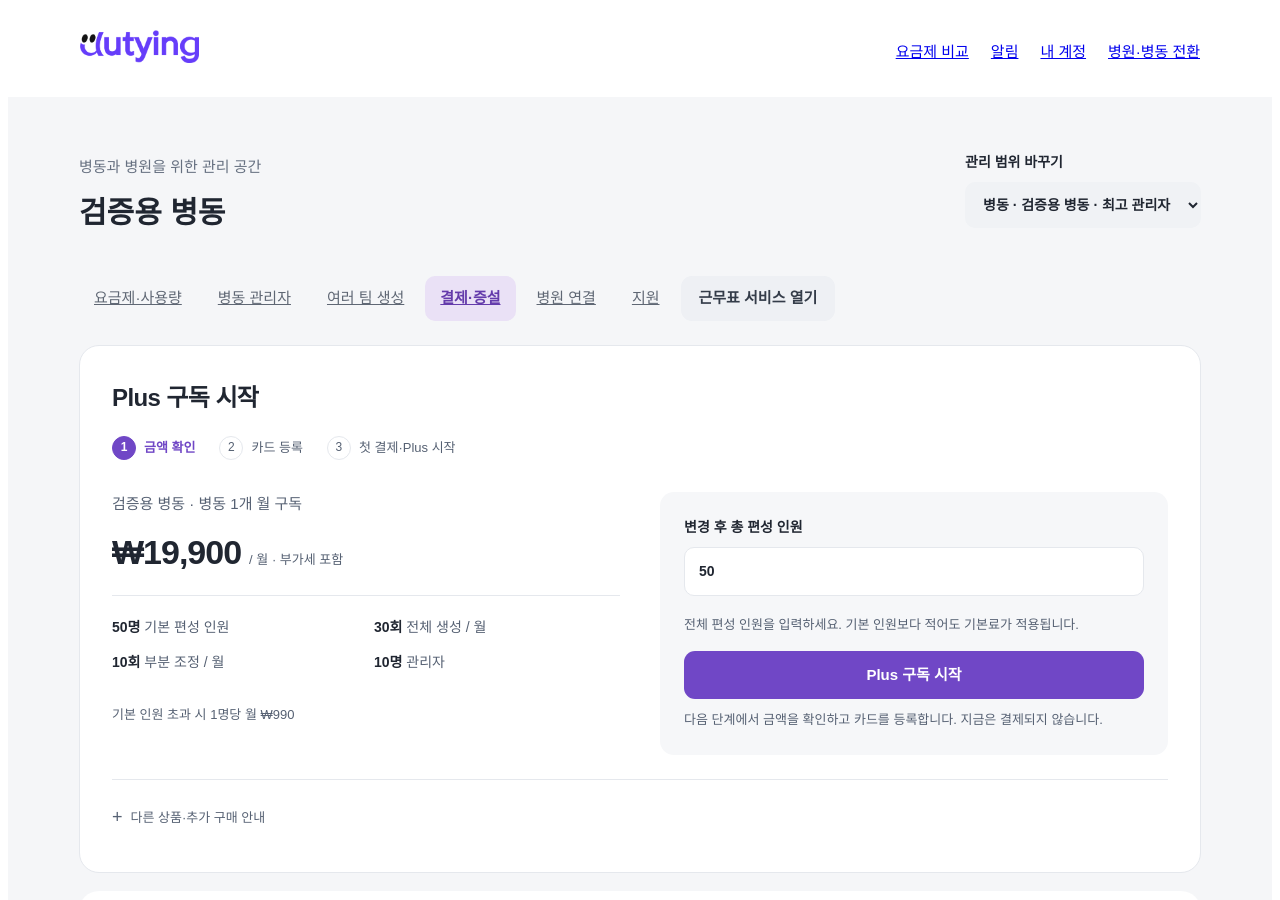
Plus checkout before card registration › makes subscription entry clear and requests only a quote before consent
Expected: the list named "Plus 구독 절차" does not show "이메일", [112,436,456,460]
Expected: the text "다음 단계에서 금액을 확인하고 카드를 등록합니다. 지금은 결제되지 않습니다." is shown, [684,709,1144,731]
What coordinates should you click on to do the following:
click the button "Plus 구독 시작"
I would click on:
 (914, 675)
Its box is [684,651,1144,699].
(page scrolled)
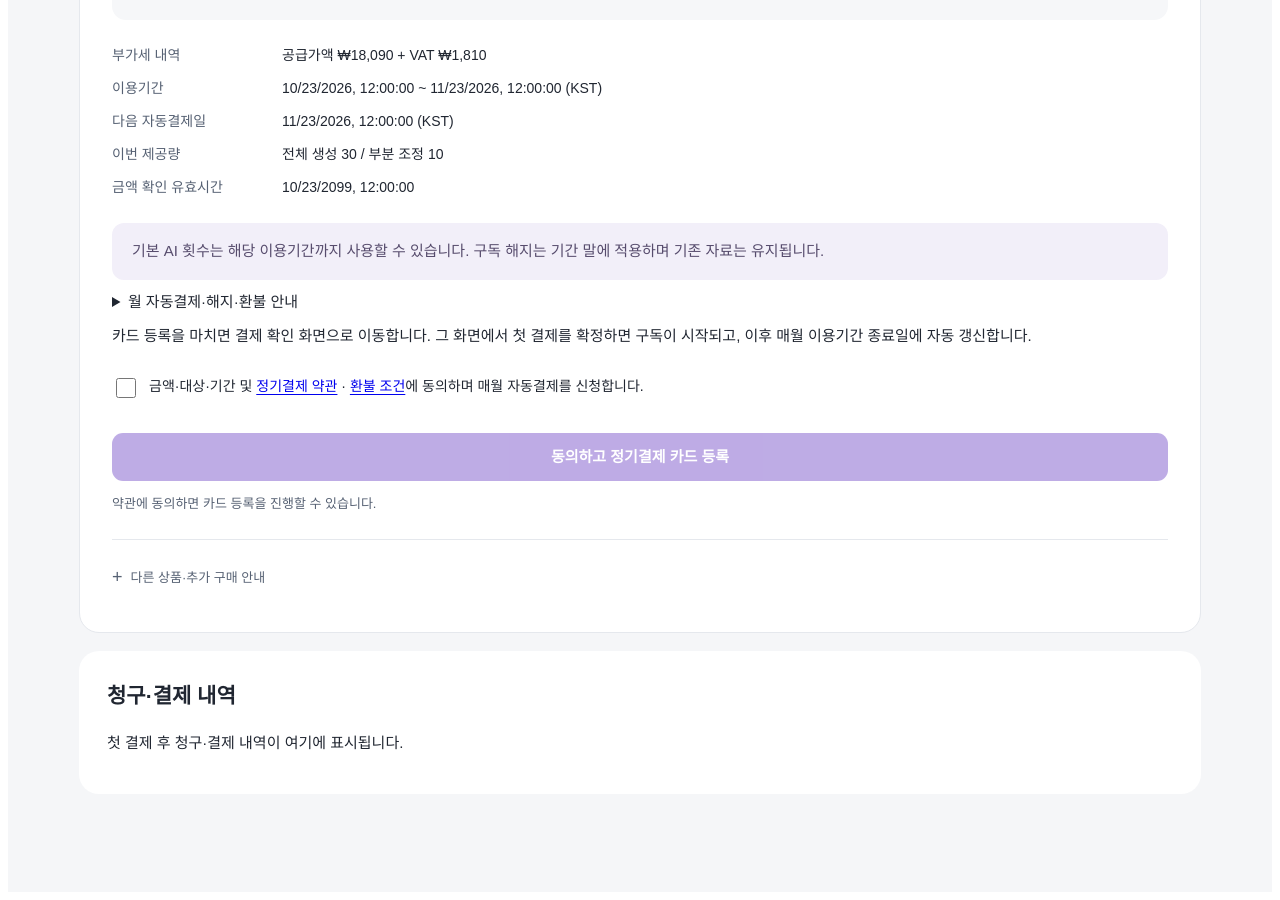
Now the button "동의하고 정기결제 카드 등록" is disabled, box [112,433,1168,481]
